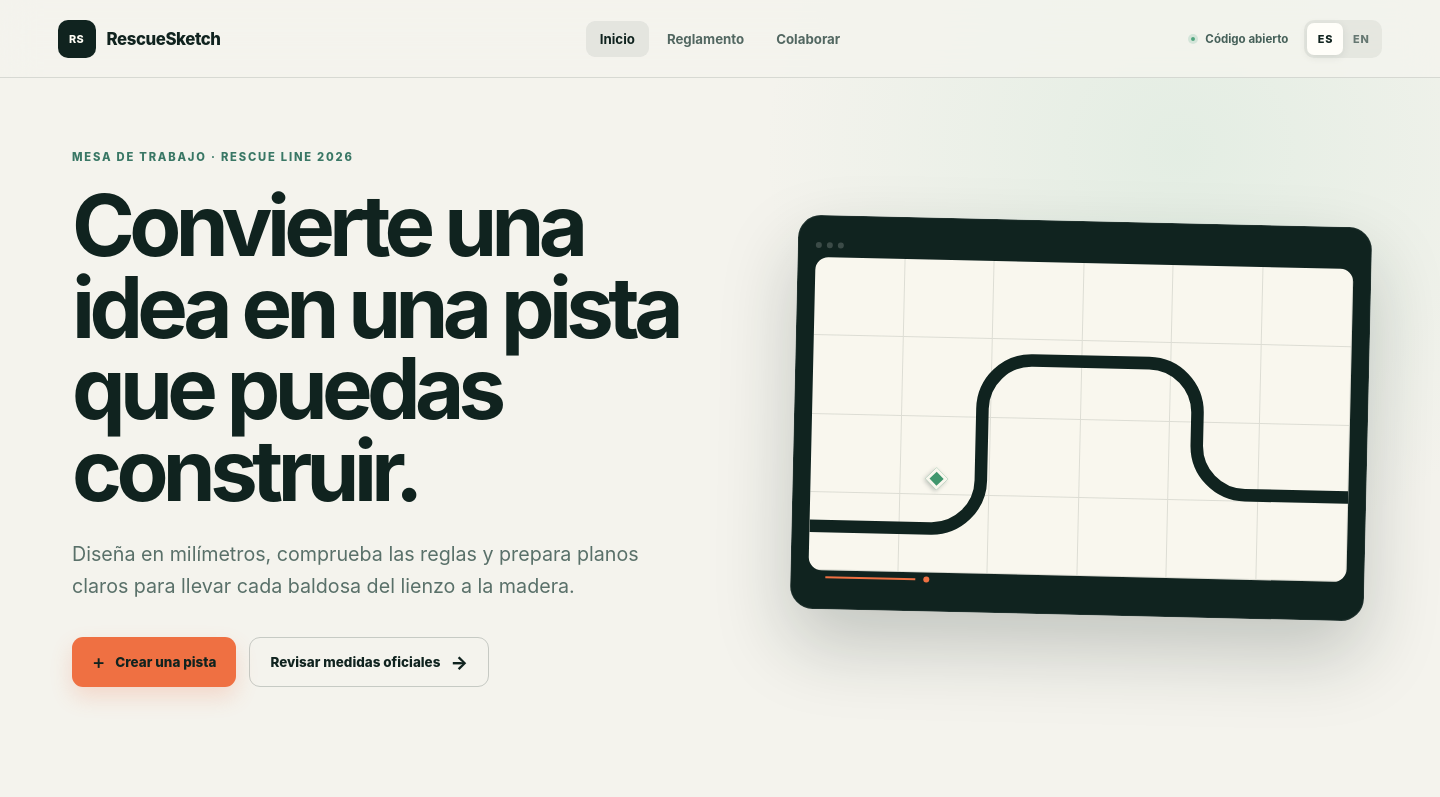
Dashboard › switches every visible action to English and persists the choice
Click the button with aria-label "Cambiar idioma a inglés" at [1361, 38], box [1343,22,1379,54]
(page scrolled)
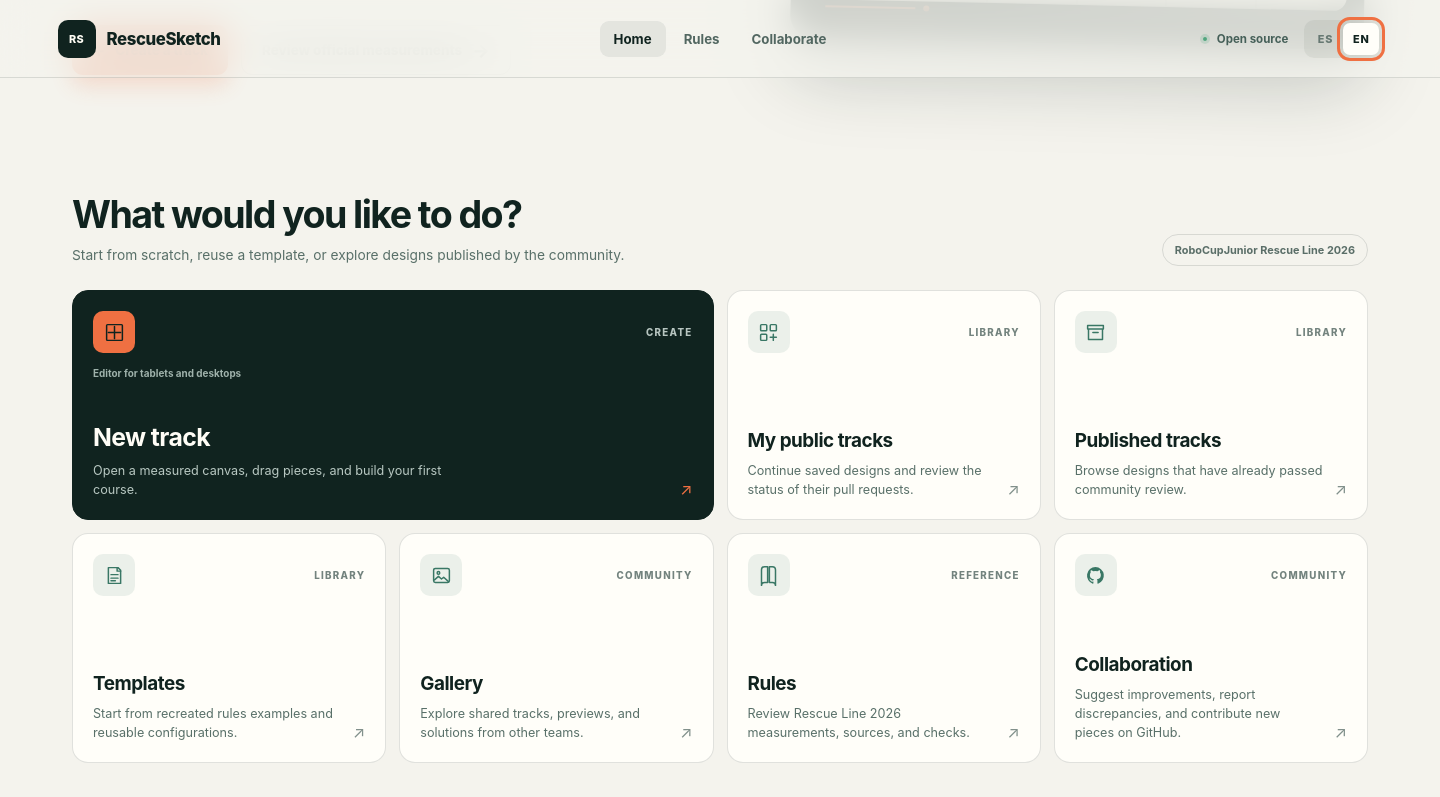
Check: the link with aria-label "Open New track" is shown, box [72,290,714,520]
